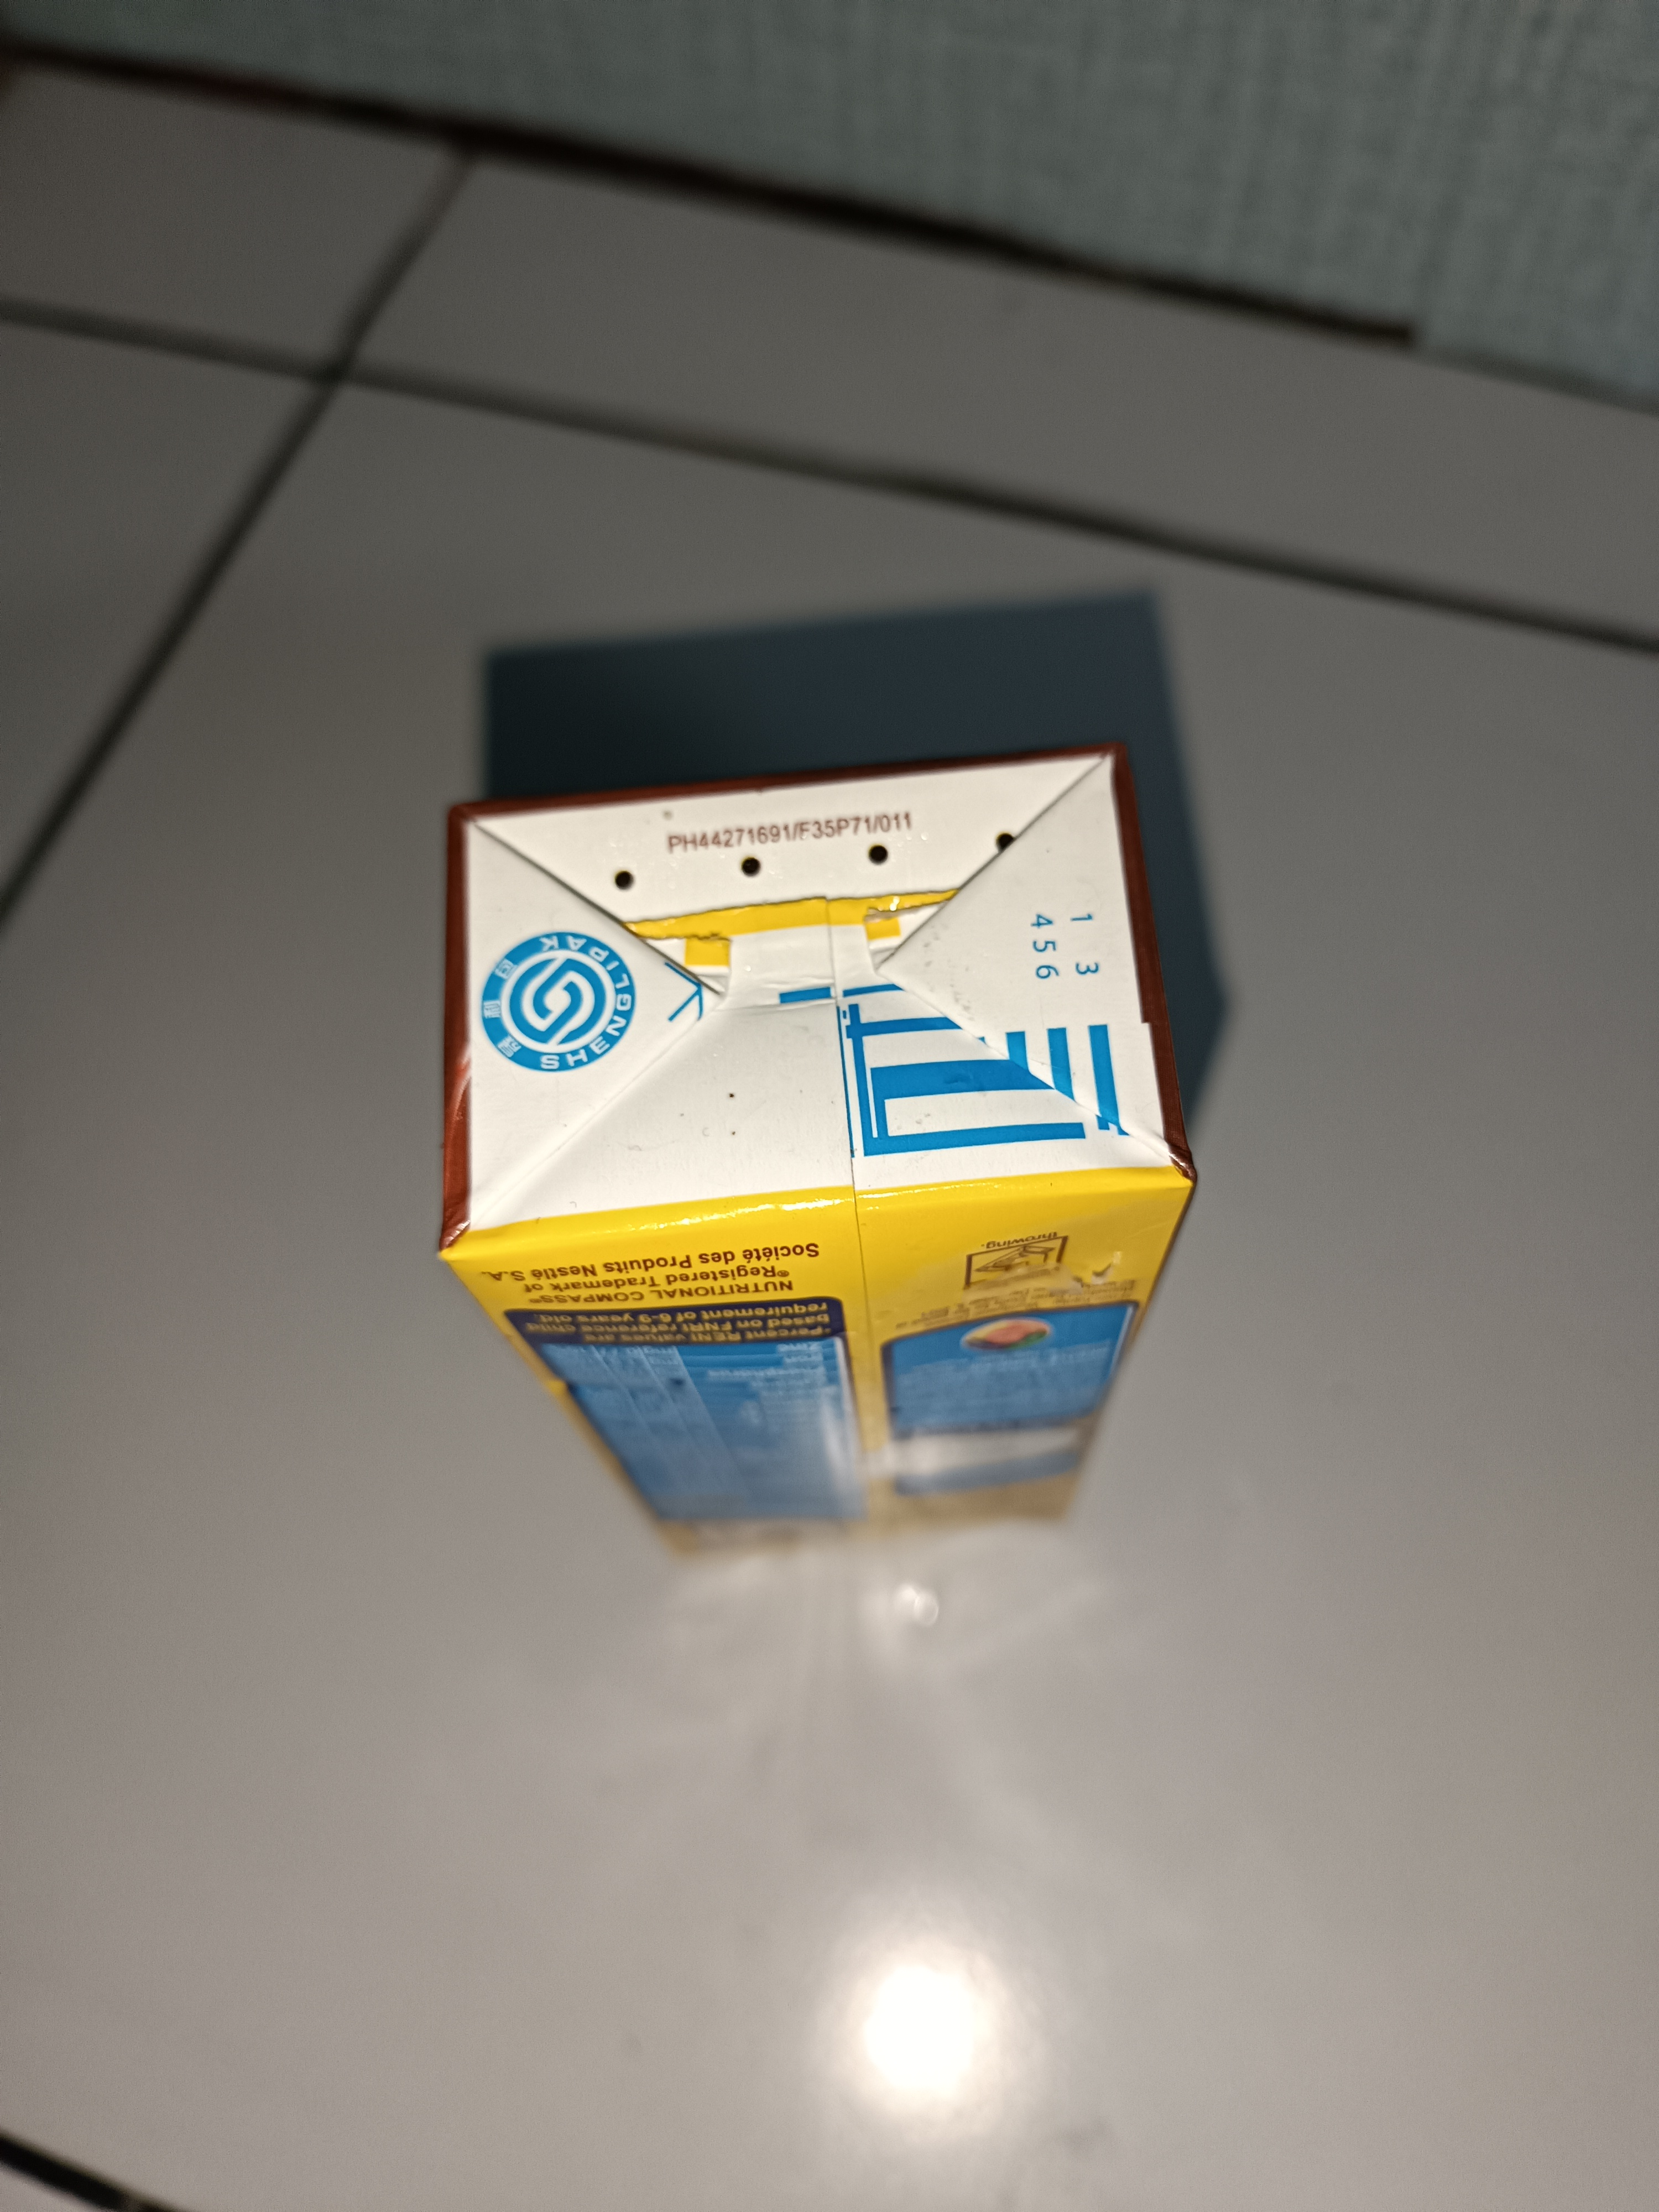Juice Box: (305, 707, 1316, 1667)
